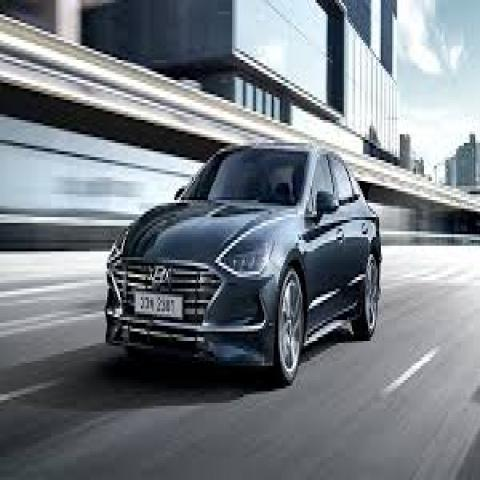LP: (129, 288, 185, 328)
